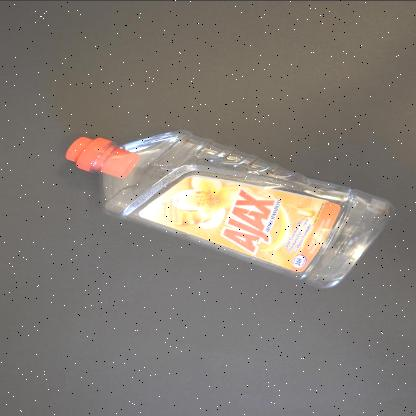Plastic Bottle: (66, 129, 394, 287)
